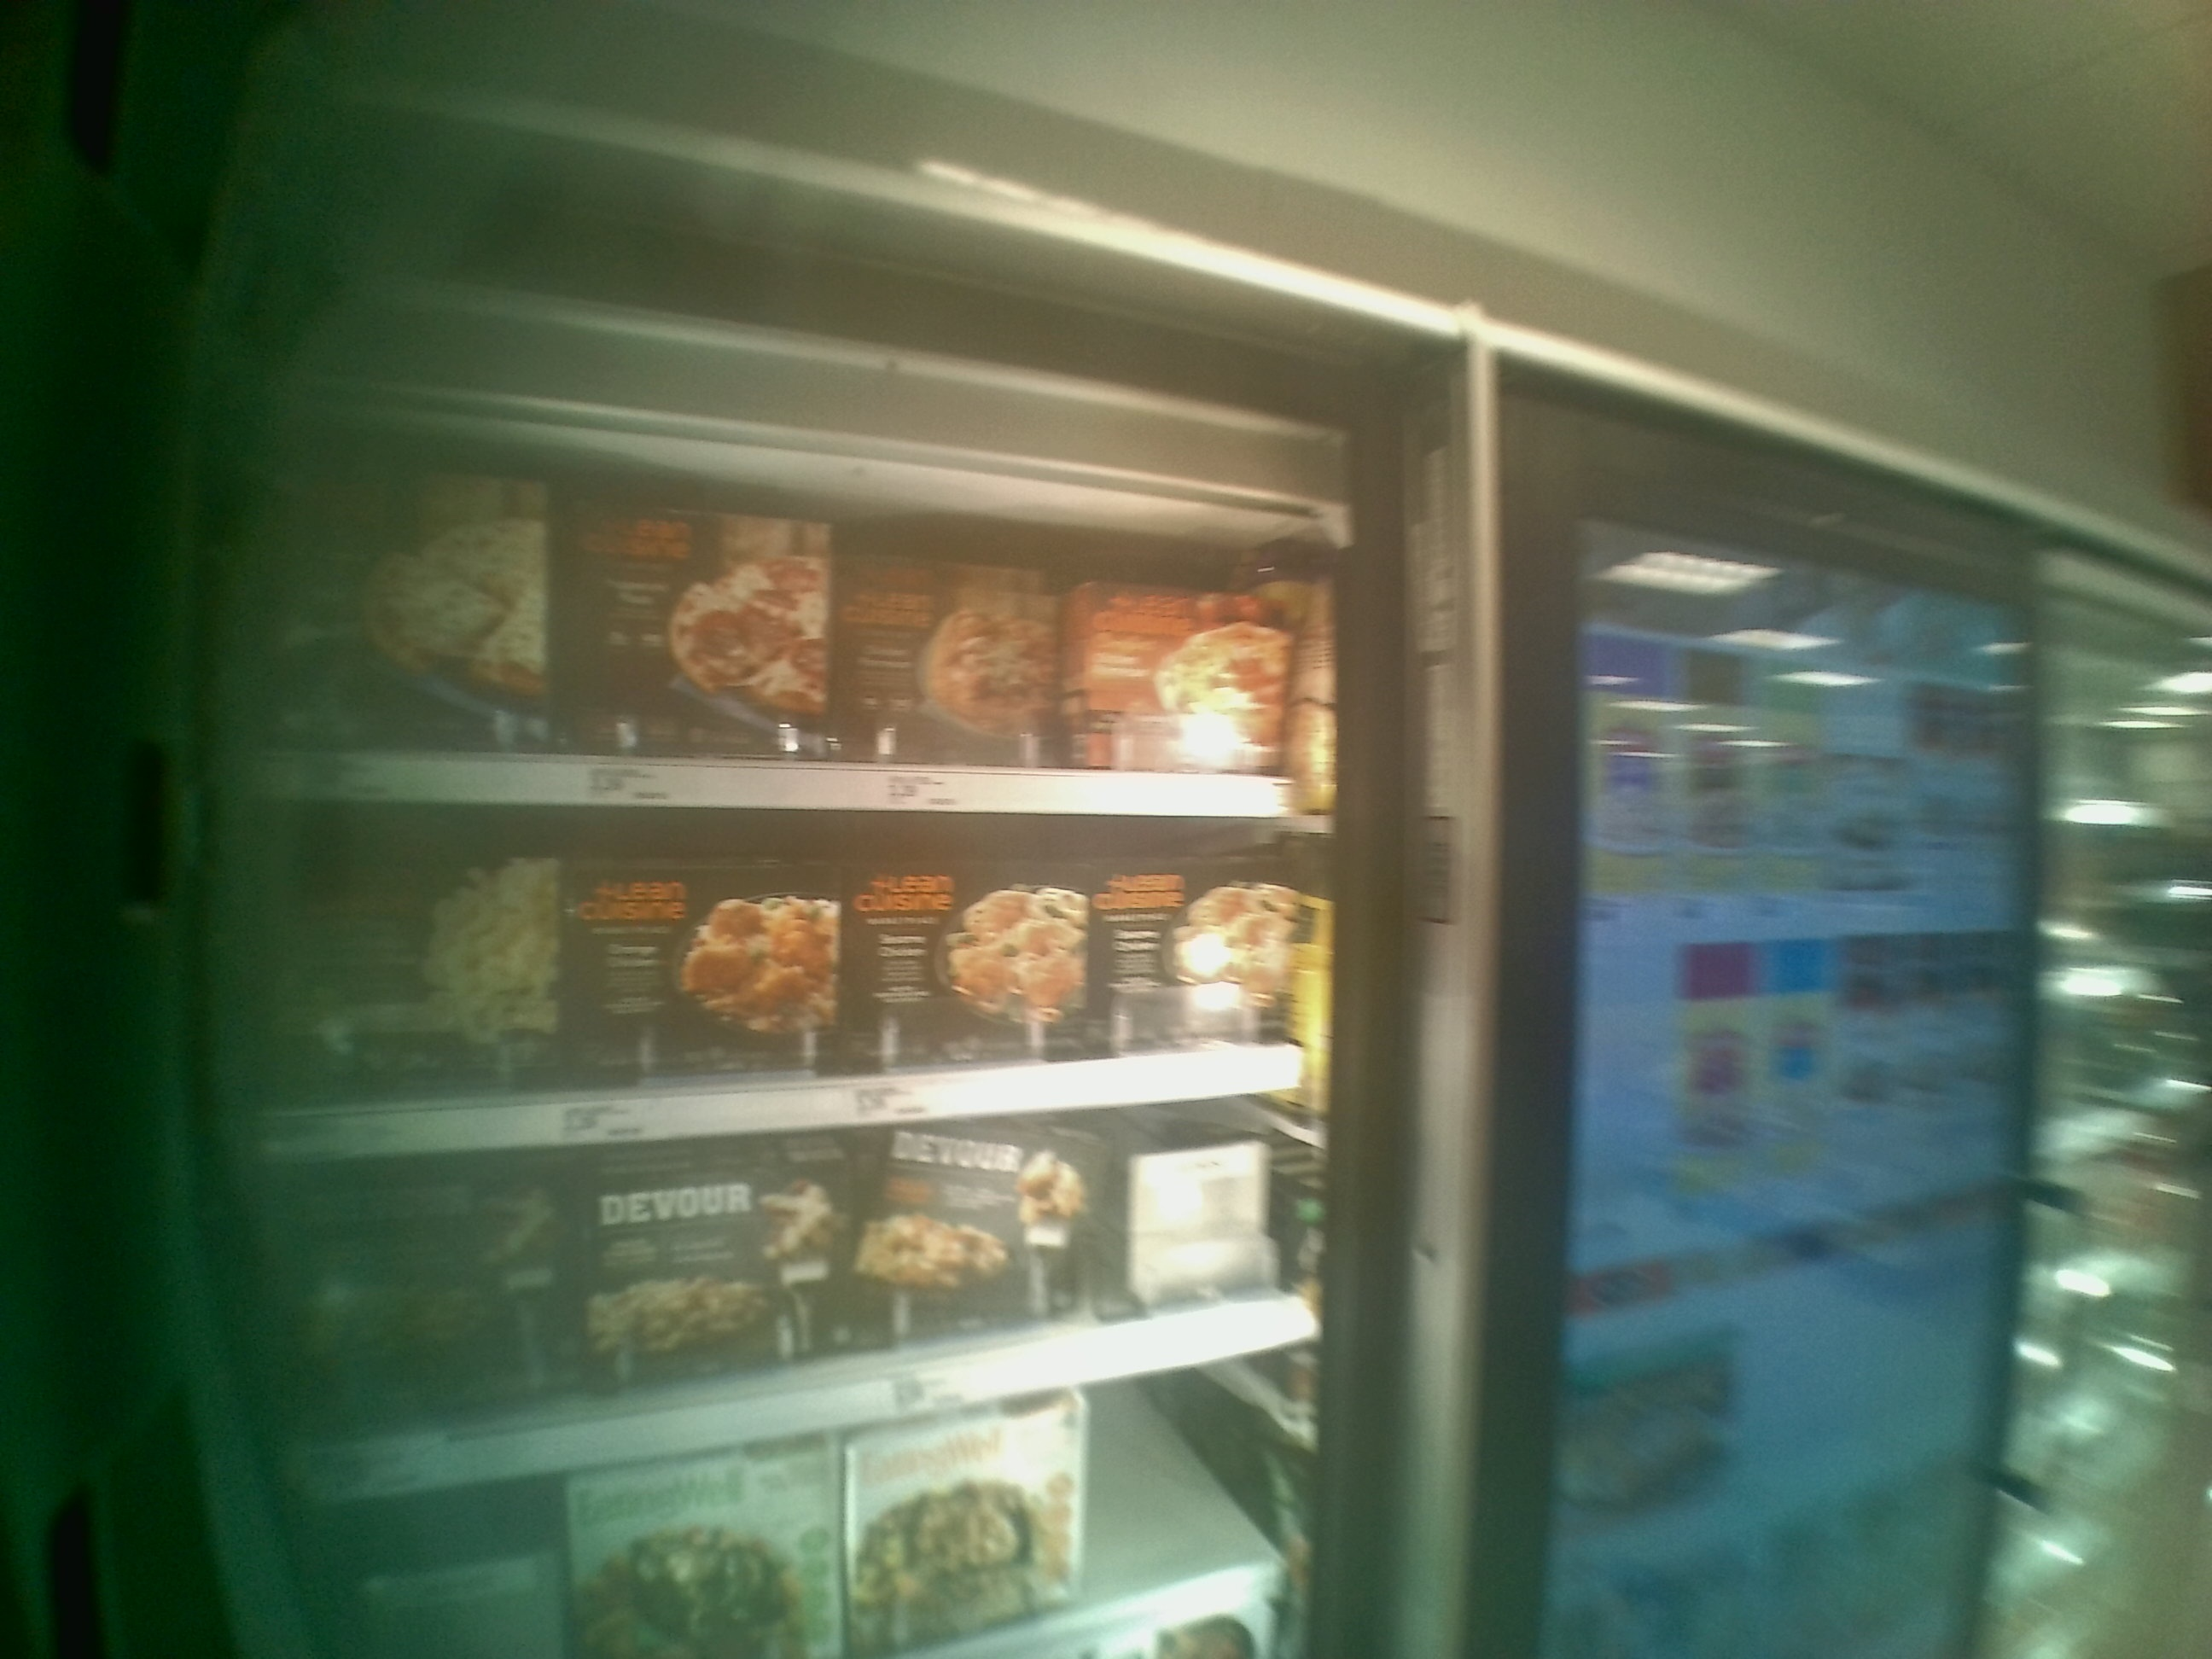shelf: (223, 404, 1343, 828), (223, 793, 1348, 1159)
